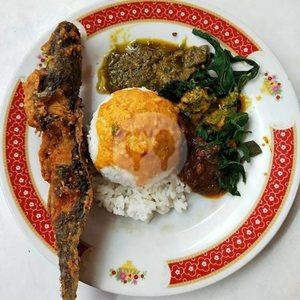pecel_lele: (25, 26, 94, 290)
